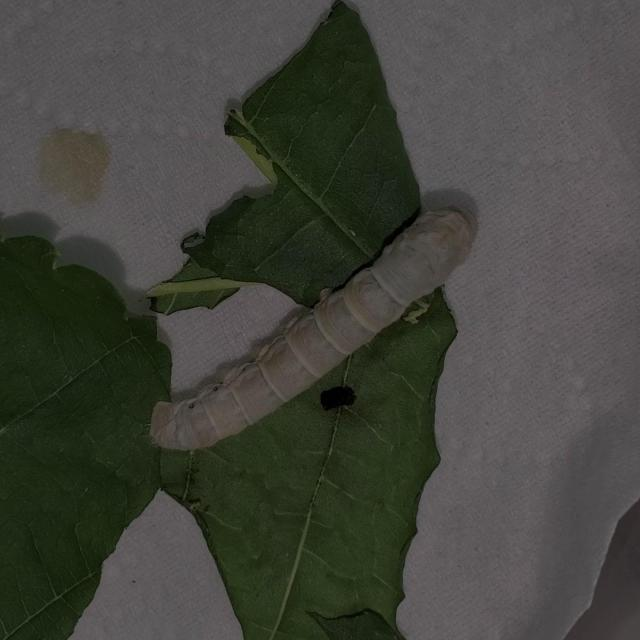Healthy: (134, 196, 480, 450)
